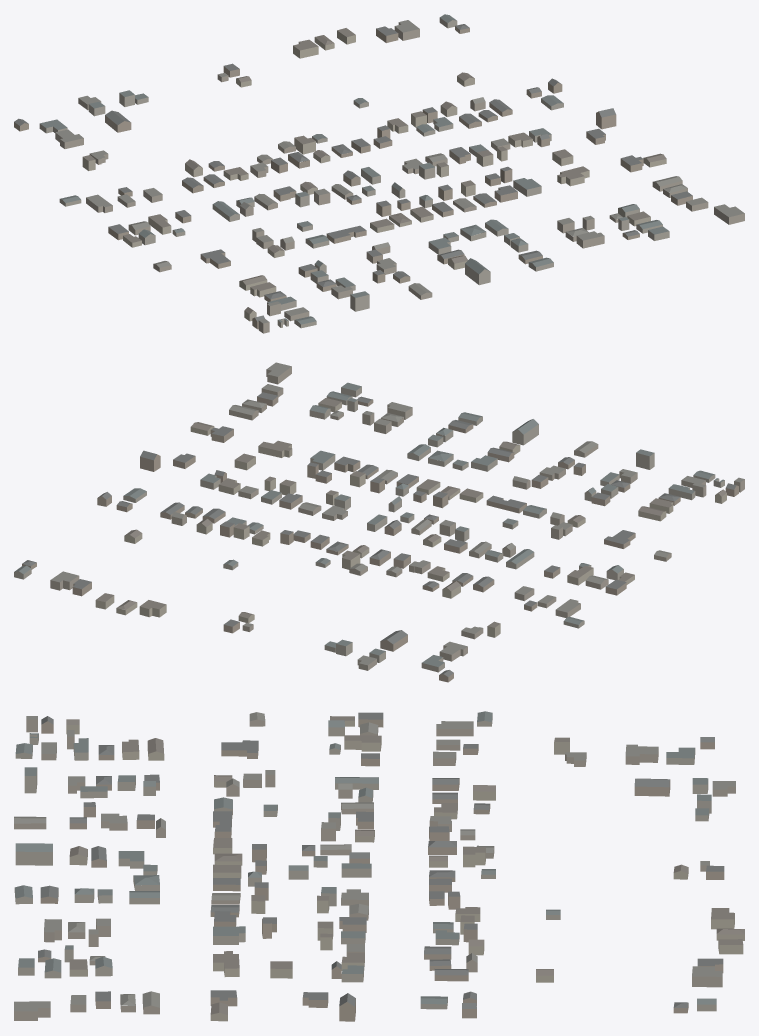
File: c663417104f9-chunk-1206_11842.glb
The picture shows the model from 3 angles, top to bottom: view 1: azimuth 30°, elevation 25°; view 2: azimuth 150°, elevation 25°; view 3: azimuth 270°, elevation 25°; orthographic projection. The views are drawn at different scales.
Parts seen in each view (by area): view 1: no part large enough to name; view 2: no part large enough to name; view 3: building_112121, building_155098, building_35233, building_47356, building_85974, building_140217, building_166347, building_11860, building_160446, building_35673.
Part boxes in pixels (x1=…): building_112121: x1=15, y1=843, x2=52, y2=865; building_155098: x1=14, y1=1001, x2=50, y2=1020; building_35233: x1=634, y1=778, x2=670, y2=796; building_47356: x1=692, y1=966, x2=722, y2=987; building_85974: x1=221, y1=740, x2=258, y2=758; building_140217: x1=625, y1=744, x2=658, y2=764; building_166347: x1=213, y1=926, x2=245, y2=944; building_11860: x1=344, y1=735, x2=381, y2=751; building_160446: x1=436, y1=721, x2=473, y2=736; building_35673: x1=213, y1=951, x2=239, y2=976.
Size of the model in its own units: 391 by 11.86 by 397.
